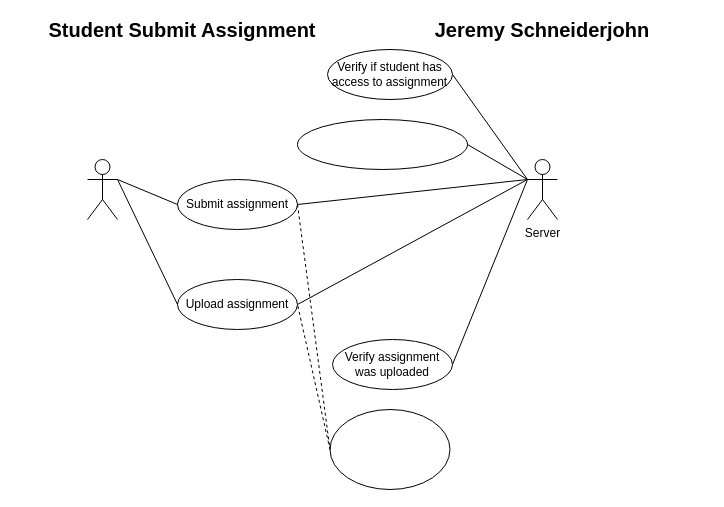
Image size: 724x507. Some labels were removed from this diagram. The centre of each missing label's shape, as x and y in pixels:
Student: (102,189)
Verify assignment has not already been submitted: (382,144)
Verify if submitted assignment is not empty: (389,449)
